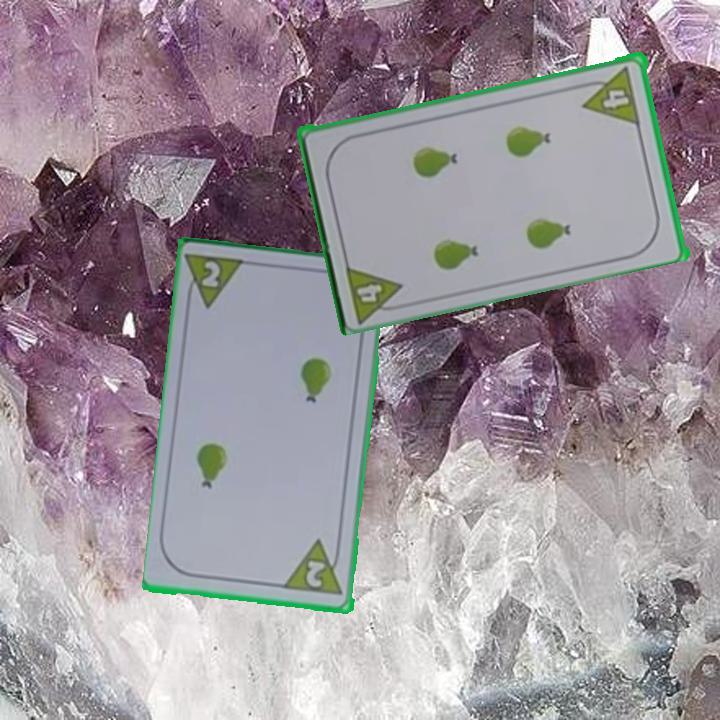2p: (182, 250, 250, 313), (302, 557, 329, 591)
4p: (582, 81, 639, 127), (353, 279, 386, 305)
